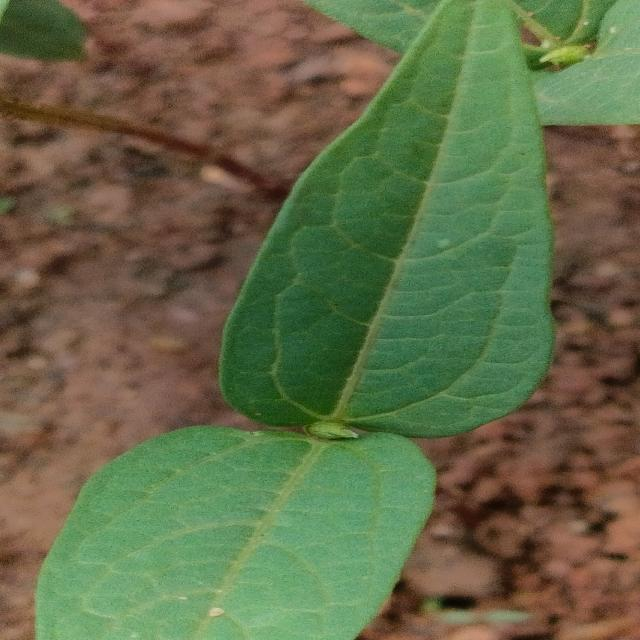Black gram_healthy: (210, 0, 555, 444), (29, 416, 438, 640)
